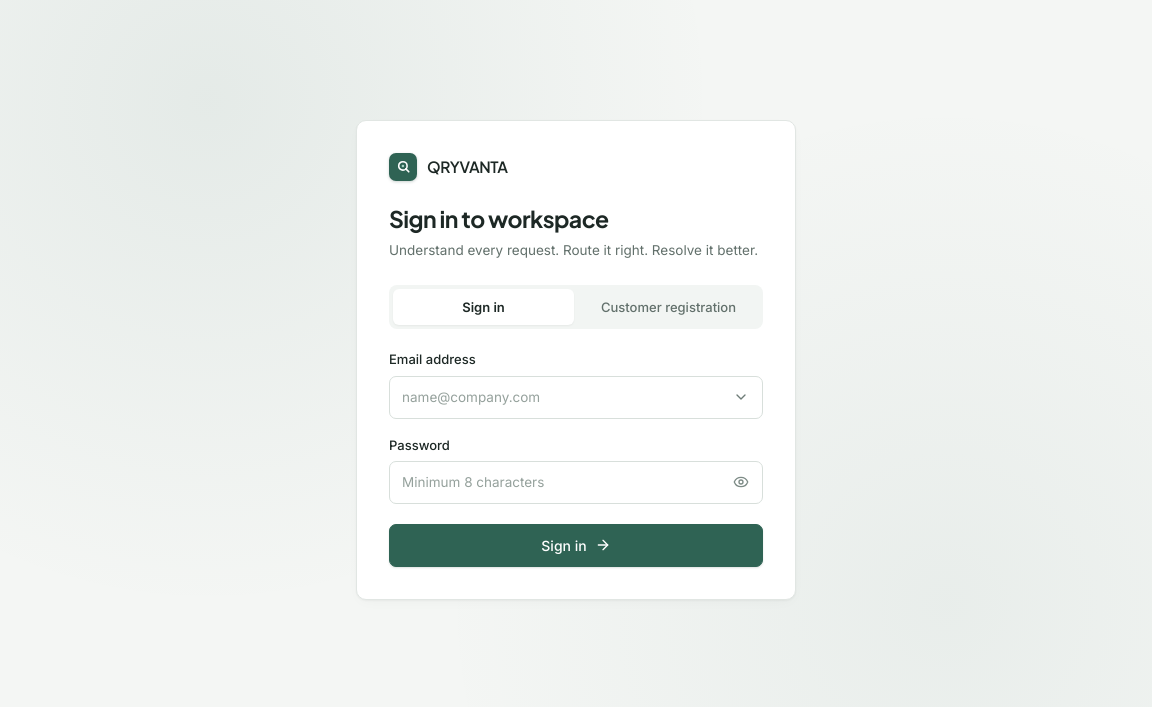
Test: QRYVANTA Frontend Core UI & Workflows › renders clean login screen with email dropdown demo autofill and toggles registration mode
This screenshot has width=1152, height=707.
Expected: the text "QRYVANTA" is shown, [427, 155, 508, 179]
Expected: the heading "Sign in to workspace" is shown, [389, 204, 608, 233]
Open demo dropdown from email field and autofill both email and password
Click the button named "Choose demo account". click: (741, 397)
box: [727, 383, 755, 411]
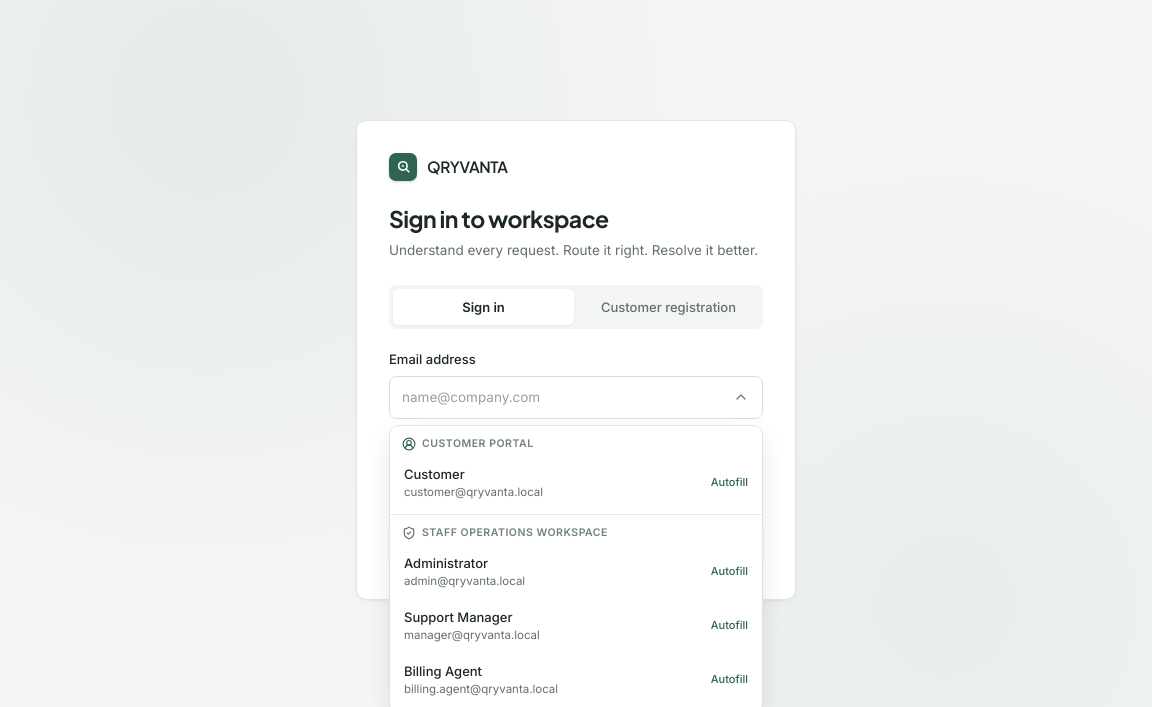
Expected: the text "Administrator" is shown
Press the mouse on the text "Administrator" at (446, 563), box [404, 555, 488, 571]
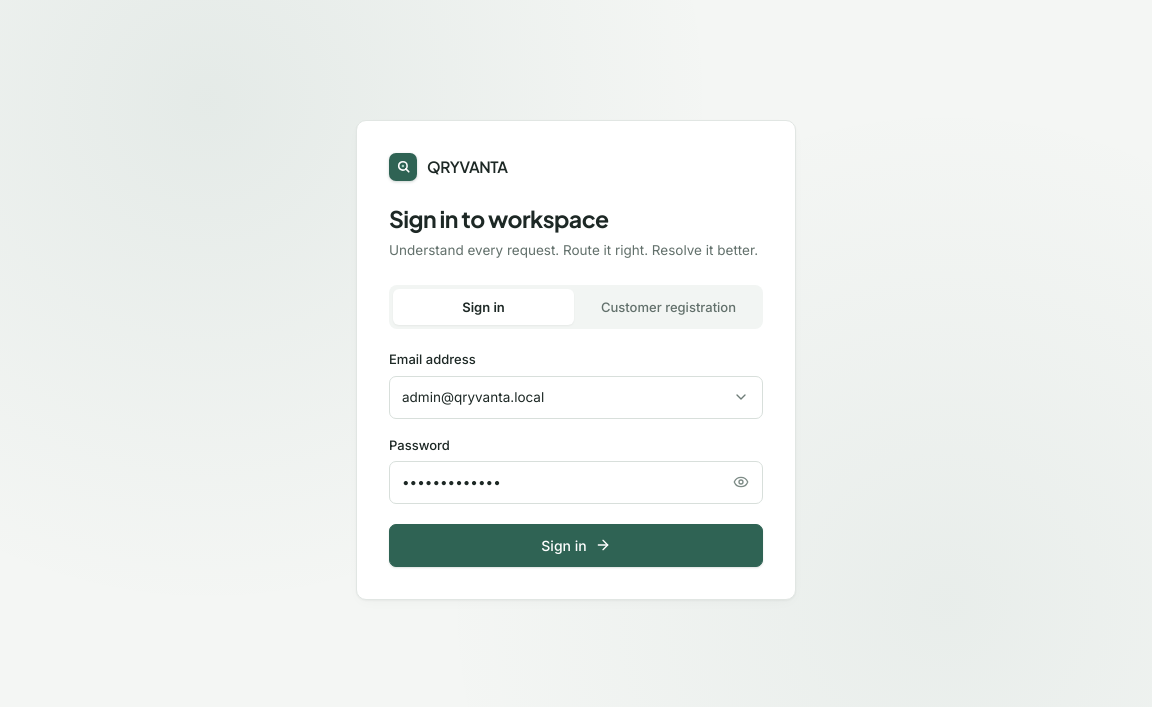
Expected: the field labelled "Email address" holds "admin@qryvanta.local", [389, 376, 763, 418]
Expected: the password field labelled "Password" holds "DemoUser#2026", [389, 461, 763, 504]
Click the button "Customer registration". click: (668, 307)
box: [578, 289, 759, 325]
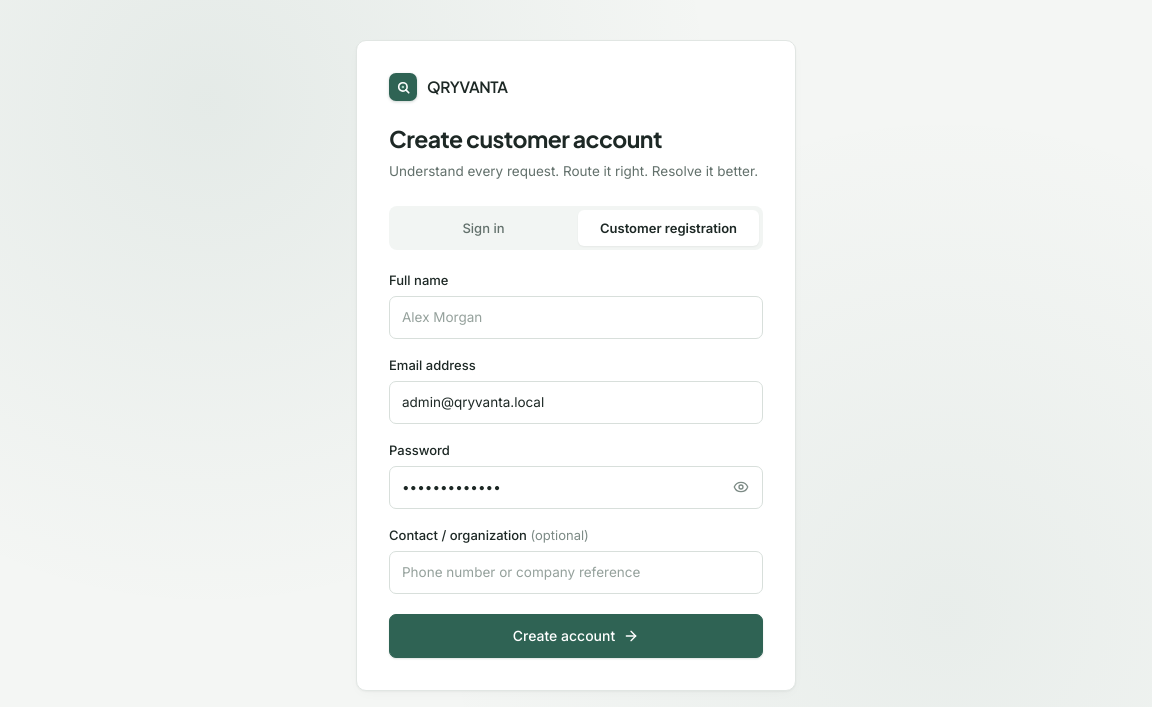
Expected: the heading "Create customer account" is shown, [389, 124, 662, 153]
Expected: the field with placeholder "Alex Morgan" is shown, [389, 296, 763, 339]
